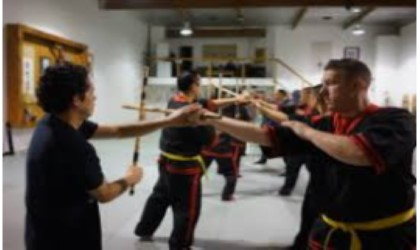baston_e: (137, 69, 150, 122), (127, 102, 171, 114), (129, 138, 141, 165)
baston_v: (209, 110, 225, 121), (126, 186, 137, 197), (141, 64, 151, 73), (119, 100, 126, 110), (217, 70, 223, 75), (234, 75, 240, 80)
